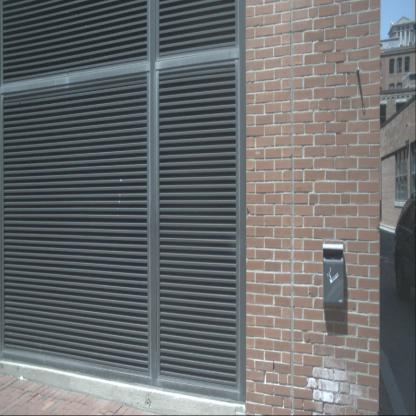vehicle-car: (392, 190, 416, 301)
